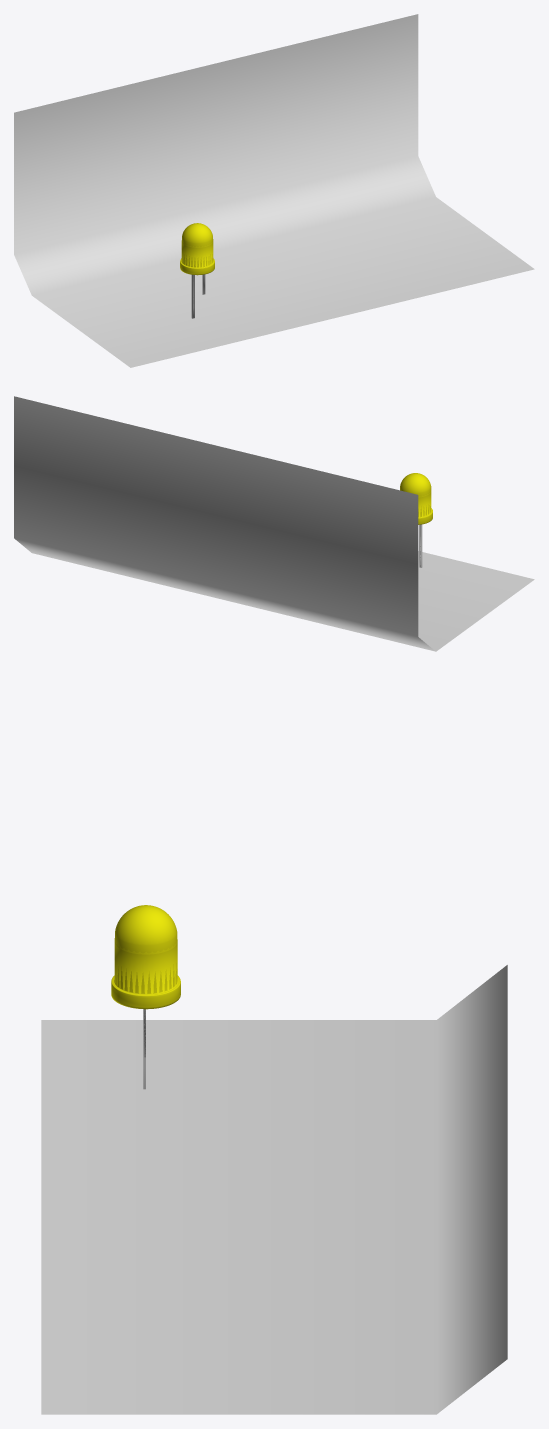
The model's file is LED_2.fbx.
3 renders of one model, top to bottom at view 1: azimuth 30°, elevation 25°; view 2: azimuth 150°, elevation 25°; view 3: azimuth 270°, elevation 25°, orthographic. The views are drawn at different scales.
Visible parts, largest first — view 1: Plane_002, Sphere_001, Sphere; view 2: Plane_002, Sphere_001, Sphere; view 3: Plane_002, Sphere_001, Sphere.
Part boxes in pixels (box(x1,y1,x2,y2)): Plane_002: box(14, 14, 534, 367); Sphere_001: box(180, 223, 214, 275); Sphere: box(181, 223, 213, 273); Plane_002: box(14, 396, 534, 651); Sphere_001: box(400, 473, 432, 524); Sphere: box(400, 473, 431, 523); Plane_002: box(41, 965, 507, 1414); Sphere_001: box(111, 905, 180, 1009); Sphere: box(112, 906, 179, 1007).
Bounding box in the file's own units: 29.57 × 11.88 × 14.78.
